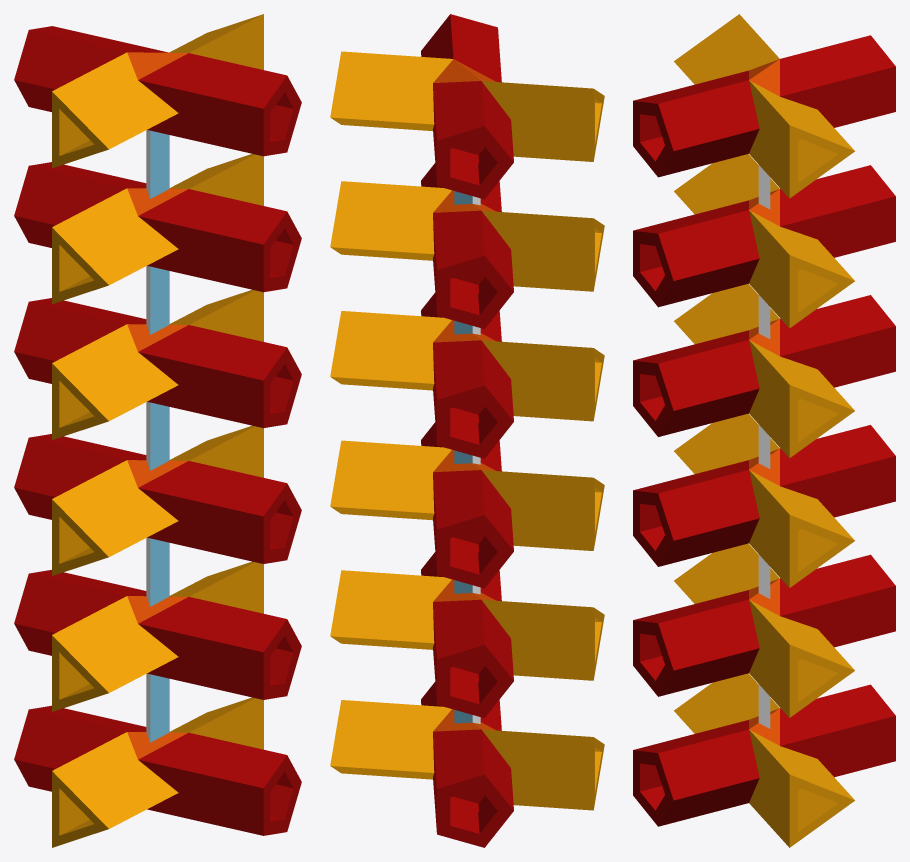
File: red-yellow-cross-bob-6-gang.dae
The picture shows the model from 3 angles, left to right: view 1: azimuth 30°, elevation 25°; view 2: azimuth 150°, elevation 25°; view 3: azimuth 270°, elevation 25°; orthographic projection. The views are drawn at different scales.
Visible parts, largest first — view 1: instance476, instance46, instance47, instance324, instance359, instance380, instance371, instance6, instance187, instance311, instance369, instance477 (+65 smaller); view 2: instance429, instance77, instance1, instance191, instance348, instance194, instance71, instance539, instance87, instance126, instance504, instance510 (+38 smaller); view 3: instance100, instance245, instance383, instance619, instance63, instance519, instance567, instance299, instance70, instance168, instance433, instance440 (+78 smaller).
Boxes of the visible parts, bbox=[...] form: instance476: bbox=[52, 80, 178, 149]; instance46: bbox=[52, 216, 178, 285]; instance47: bbox=[52, 624, 178, 692]; instance324: bbox=[52, 488, 178, 556]; instance359: bbox=[52, 760, 178, 828]; instance380: bbox=[52, 352, 178, 421]; instance371: bbox=[138, 461, 286, 516]; instance6: bbox=[138, 53, 286, 108]; instance187: bbox=[138, 189, 286, 244]; instance311: bbox=[138, 732, 286, 788]; instance369: bbox=[138, 597, 286, 652]; instance477: bbox=[138, 325, 286, 380]; instance429: bbox=[330, 700, 434, 772]; instance77: bbox=[330, 440, 434, 513]; instance1: bbox=[330, 51, 434, 124]; instance191: bbox=[330, 570, 434, 643]; instance348: bbox=[330, 311, 434, 383]; instance194: bbox=[330, 181, 434, 254]; instance71: bbox=[481, 340, 593, 421]; instance539: bbox=[481, 729, 593, 810]; instance87: bbox=[481, 470, 593, 550]; instance126: bbox=[482, 81, 593, 161]; instance504: bbox=[482, 599, 593, 680]; instance510: bbox=[482, 210, 593, 291]; instance100: bbox=[658, 470, 759, 540]; instance245: bbox=[658, 80, 759, 150]; instance383: bbox=[658, 729, 759, 800]; instance619: bbox=[658, 599, 759, 670]; instance63: bbox=[658, 340, 759, 410]; instance519: bbox=[658, 210, 759, 280]; instance567: bbox=[780, 35, 895, 96]; instance299: bbox=[780, 165, 895, 226]; instance70: bbox=[780, 554, 895, 615]; instance168: bbox=[780, 295, 895, 356]; instance433: bbox=[780, 425, 895, 486]; instance440: bbox=[780, 684, 895, 745].
Size of the model in its own units: 2 by 6.07 by 2.
